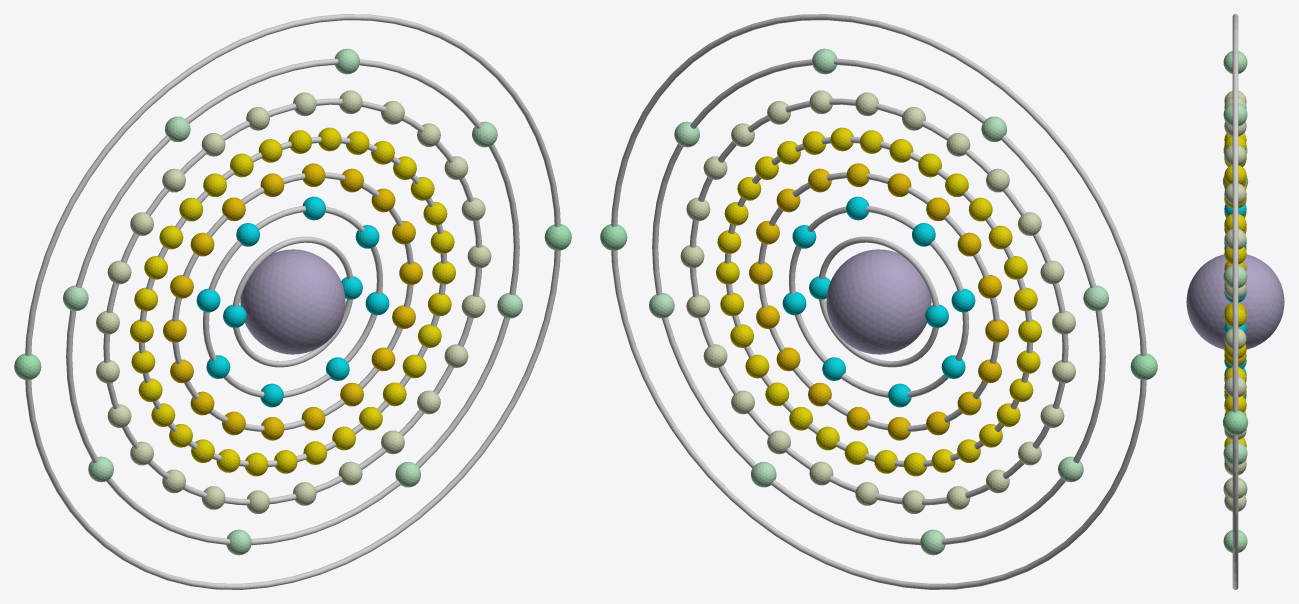
3 views of the same model, side by side, from view 1: azimuth 30°, elevation 25°; view 2: azimuth 150°, elevation 25°; view 3: azimuth 270°, elevation 25° (orthographic). The views are drawn at different scales.
Visible parts, largest first — view 1: world; view 2: world; view 3: world.
Boxes of the visible parts, x1=… form: world: x1=14, y1=14, x2=571, y2=589; world: x1=600, y1=14, x2=1157, y2=589; world: x1=1186, y1=14, x2=1284, y2=589.
Size of the model in its own units: 2.67 by 2.59 by 0.44.
